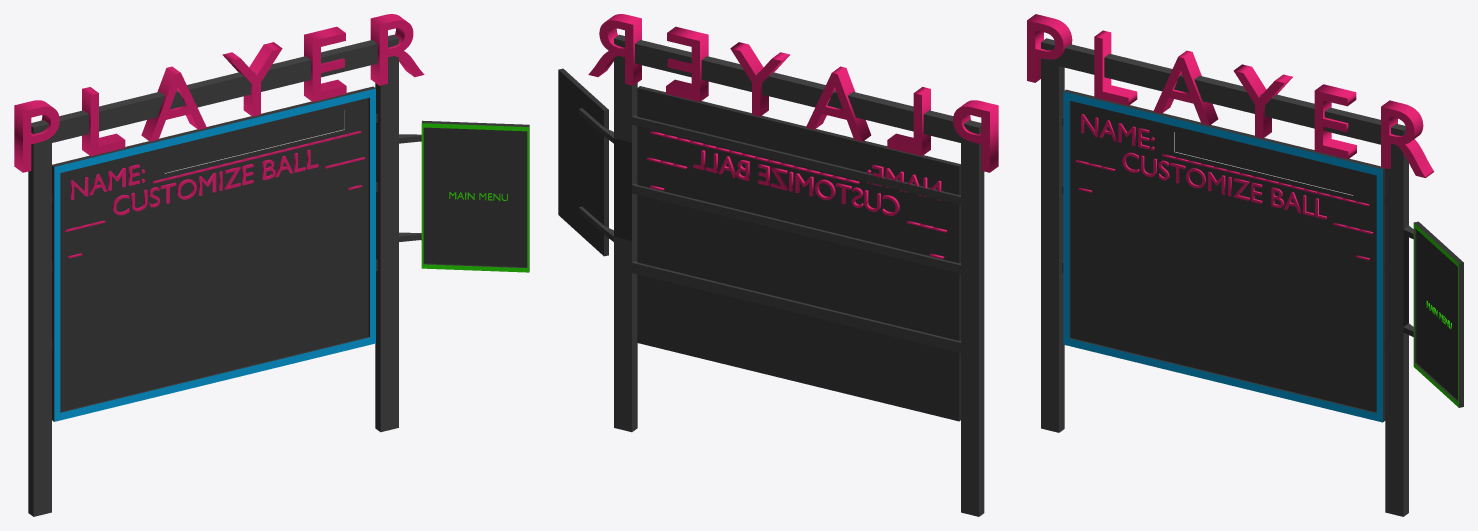
The model's file is menu_player.glb.
3 views of the same model, side by side, from view 1: azimuth 30°, elevation 25°; view 2: azimuth 150°, elevation 25°; view 3: azimuth 330°, elevation 25° (orthographic).
Parts seen in each view (by area): view 1: leaderboard_board, sign_body, main_menu_board, text_player, text_player.001; view 2: leaderboard_board, sign_body, text_player, main_menu_board, text_player.001; view 3: leaderboard_board, sign_body, text_player, main_menu_board, text_player.001.
Boxes of the visible parts, x1,y1,x2,y2 form: leaderboard_board: [52, 86, 375, 421]; sign_body: [28, 34, 421, 516]; main_menu_board: [421, 120, 529, 272]; text_player: [14, 14, 424, 172]; text_player.001: [65, 131, 365, 258]; leaderboard_board: [637, 86, 960, 421]; sign_body: [579, 34, 984, 516]; text_player: [588, 14, 998, 172]; main_menu_board: [558, 68, 608, 256]; text_player.001: [646, 131, 947, 258]; leaderboard_board: [1063, 89, 1385, 422]; sign_body: [1041, 38, 1413, 516]; text_player: [1027, 14, 1433, 177]; main_menu_board: [1413, 221, 1463, 407]; text_player.001: [1075, 114, 1373, 260].
Bounding box in the file's own units: 49.94 × 41.3 × 8.1.
